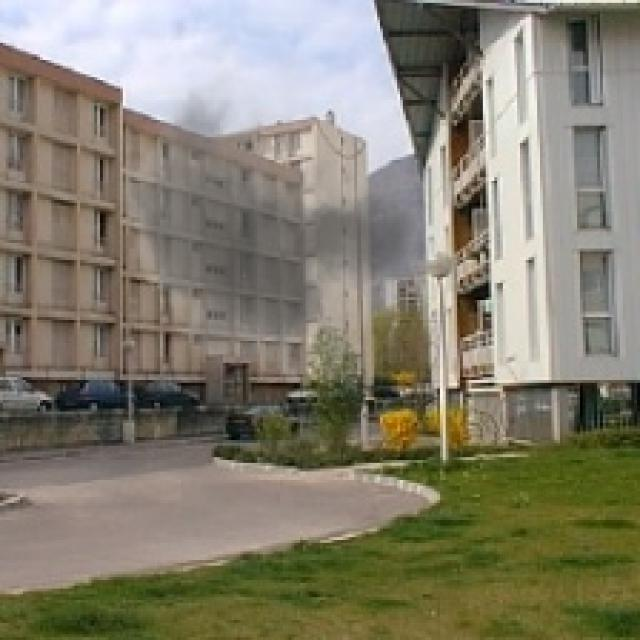smoke: (103, 23, 446, 403)
